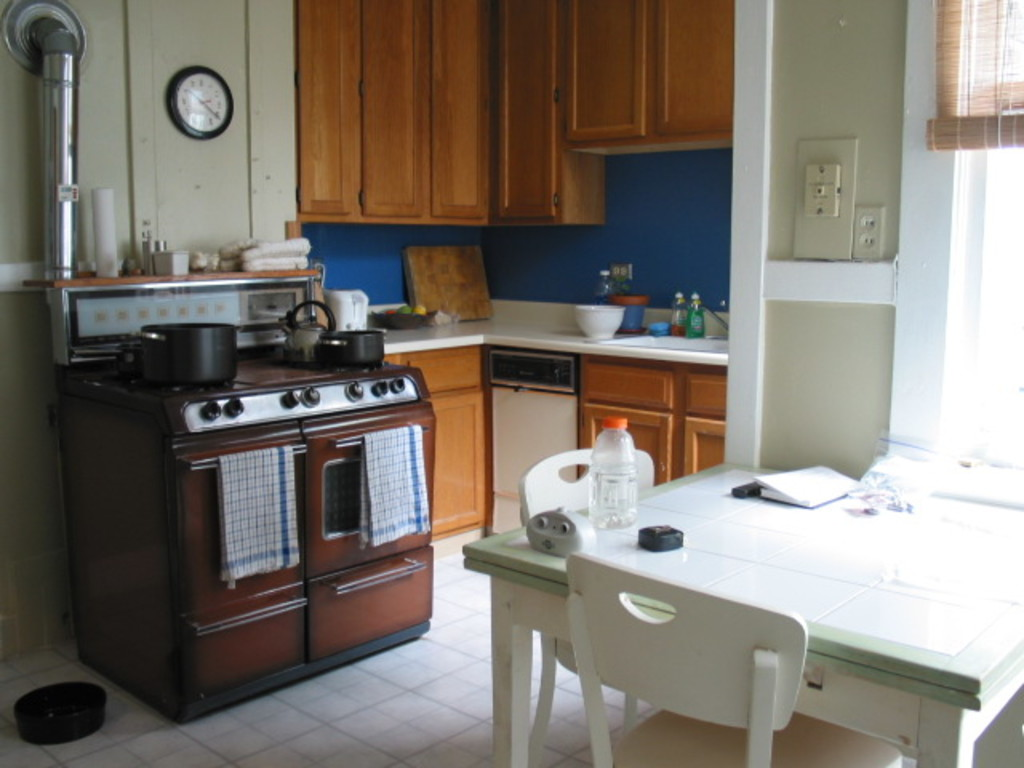Cabinetry: (418, 0, 491, 219), (496, 0, 557, 218), (566, 0, 648, 146), (301, 0, 357, 213), (365, 0, 421, 211), (654, 0, 736, 142), (424, 394, 483, 533), (584, 411, 675, 482), (584, 358, 670, 406), (403, 344, 482, 395), (683, 419, 720, 478), (680, 376, 723, 416)
